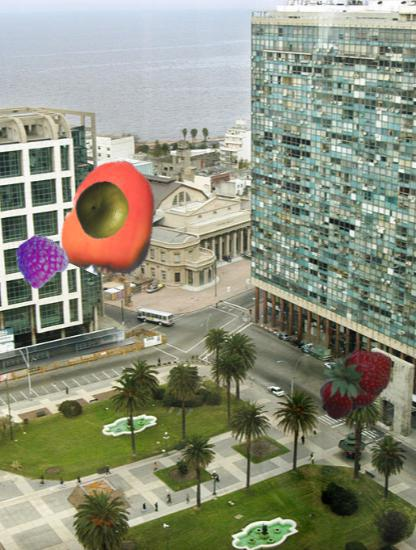Kaki: (55, 161, 172, 278)
Pomelo: (73, 181, 132, 240)
Raspberry: (15, 234, 66, 285)
Strawberry: (312, 338, 397, 423)
